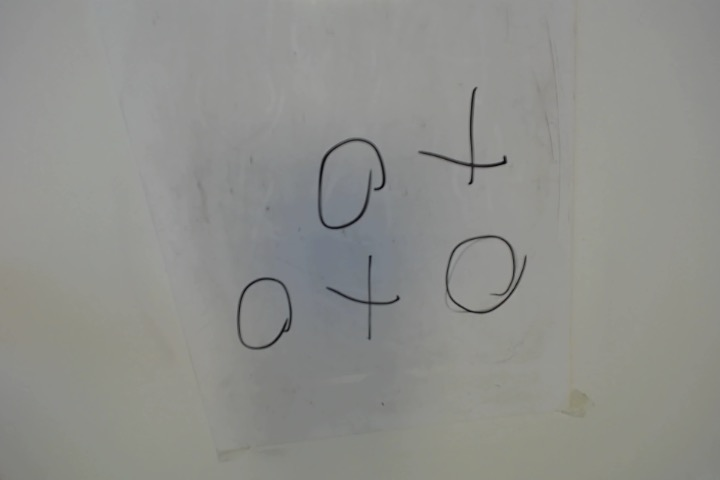0: (303, 133, 391, 236), (441, 231, 531, 317), (232, 275, 296, 352)
x: (399, 87, 508, 188), (329, 254, 398, 345)
